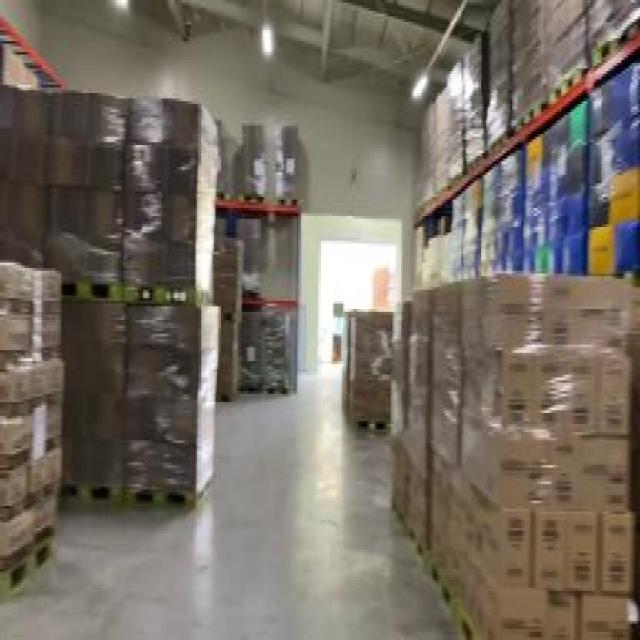box: (2, 82, 218, 509), (392, 282, 638, 637), (444, 112, 638, 276), (2, 268, 66, 577), (208, 236, 295, 400), (483, 6, 588, 123), (403, 52, 485, 183), (212, 109, 300, 200), (342, 306, 396, 438)
